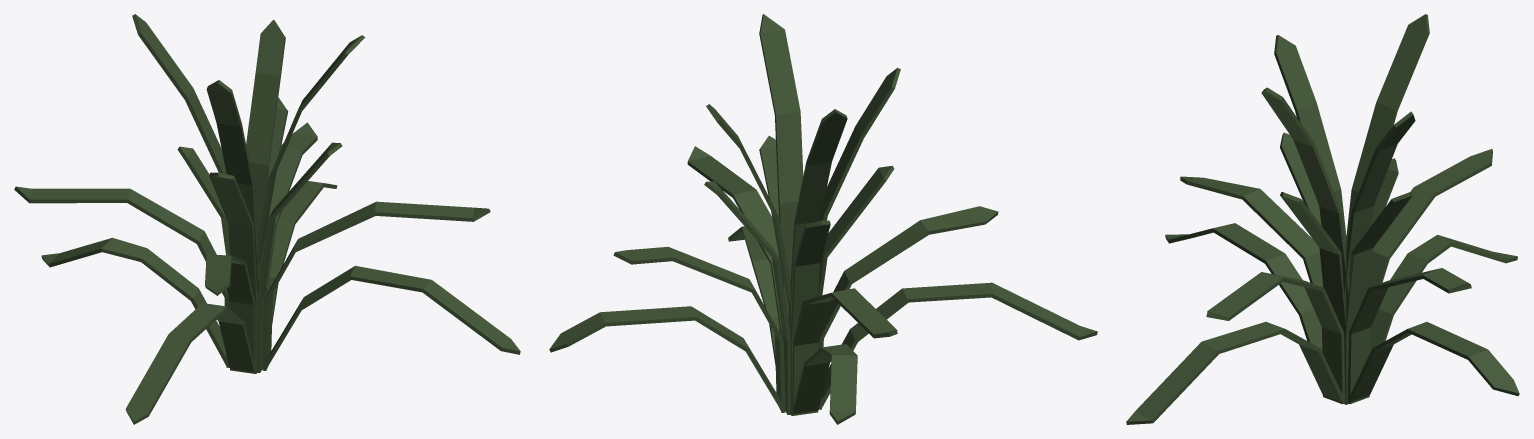
The model's file is plant-3.glb.
3 renders of one model, left to right at view 1: azimuth 30°, elevation 25°; view 2: azimuth 150°, elevation 25°; view 3: azimuth 270°, elevation 25°, orthographic.
Visible parts, largest first — view 1: Plant_3; view 2: Plant_3; view 3: Plant_3.
Part boxes in pixels (x1,y1,x2,y2): Plant_3: [14, 14, 520, 424]; Plant_3: [549, 14, 1097, 424]; Plant_3: [1126, 14, 1519, 424].
Size of the model in its own units: 1.09 by 0.9438 by 0.9724.
